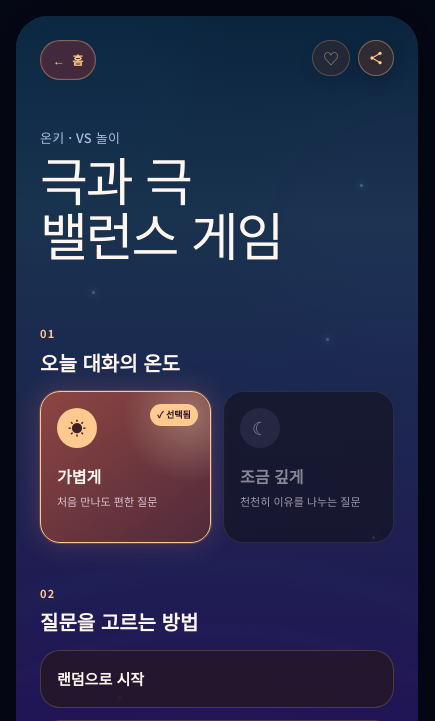
놀이와 도구 링크 공유 › 놀이 화면에서 해당 놀이의 전용 미리보기 URL을 공유한다
The width and height of the screenshot is (435, 721).
Click the button named "극과 극 밸런스 게임 링크 공유하기".
click(376, 58)  # box [358,40,394,76]
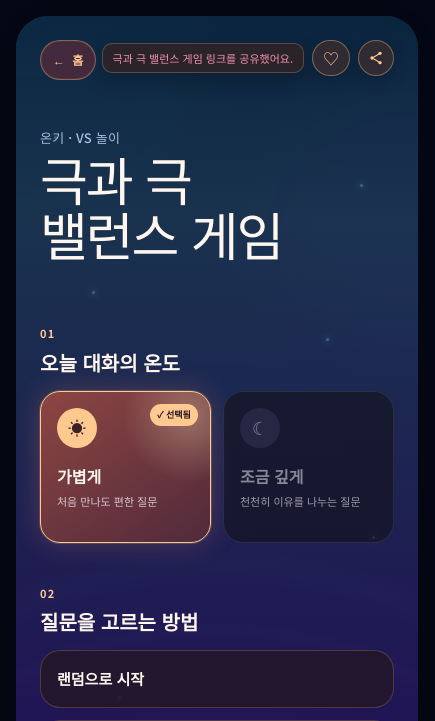
Now the text "극과 극 밸런스 게임 링크를 공유했어요." is shown, box [102,43,304,73]
